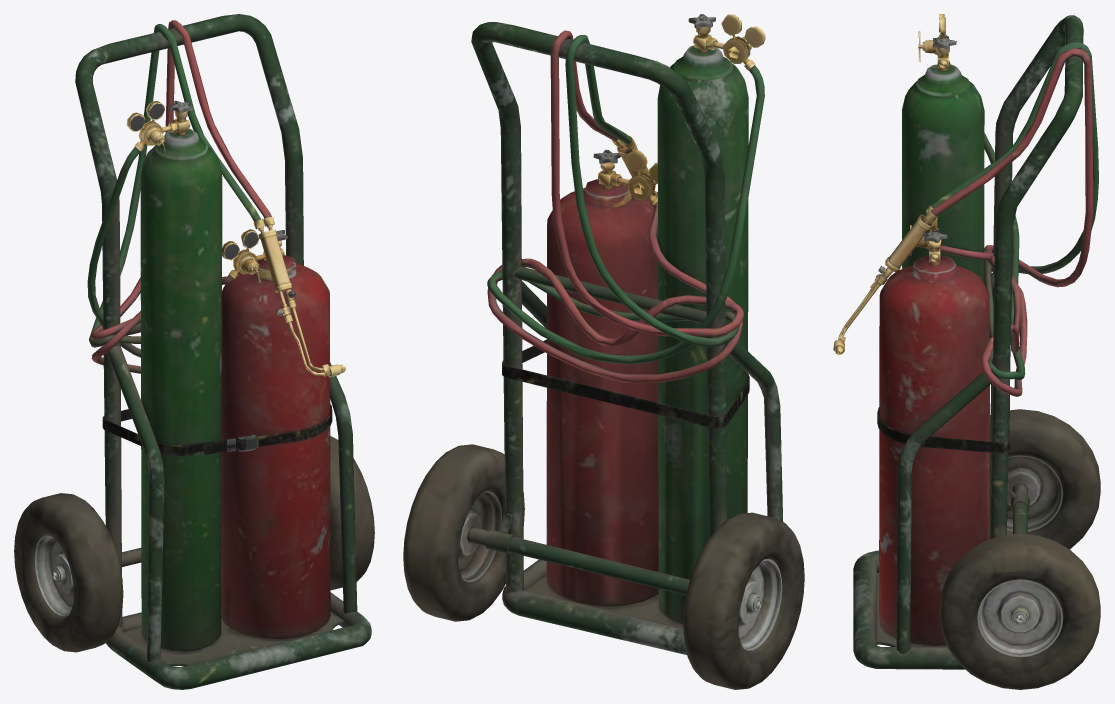
The model's file is portable_welding_cart.glb.
The picture shows the model from 3 angles, left to right: view 1: azimuth 30°, elevation 25°; view 2: azimuth 150°, elevation 25°; view 3: azimuth 270°, elevation 25°; orthographic projection. The views are drawn at different scales.
Parts seen in each view (by area): view 1: portable_welding_cart; view 2: portable_welding_cart; view 3: portable_welding_cart.
Boxes of the visible parts, left/top/right/bottom form: portable_welding_cart: left=14, top=14, right=374, bottom=689; portable_welding_cart: left=403, top=14, right=804, bottom=689; portable_welding_cart: left=833, top=14, right=1100, bottom=689.
Size of the model in its own units: 0.8365 by 1.56 by 0.655.
Materials: 2 (2 with a texture image).
